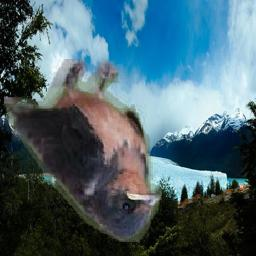Swallow: (4, 60, 162, 243)
